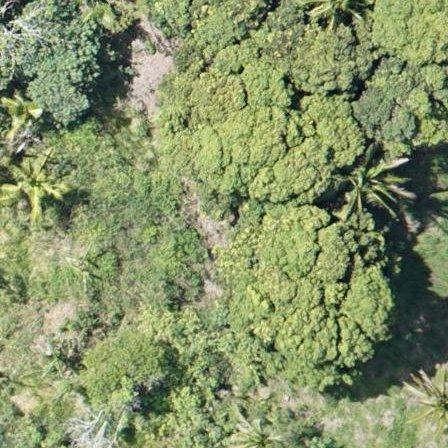palm_tree: (5, 153, 71, 219)
